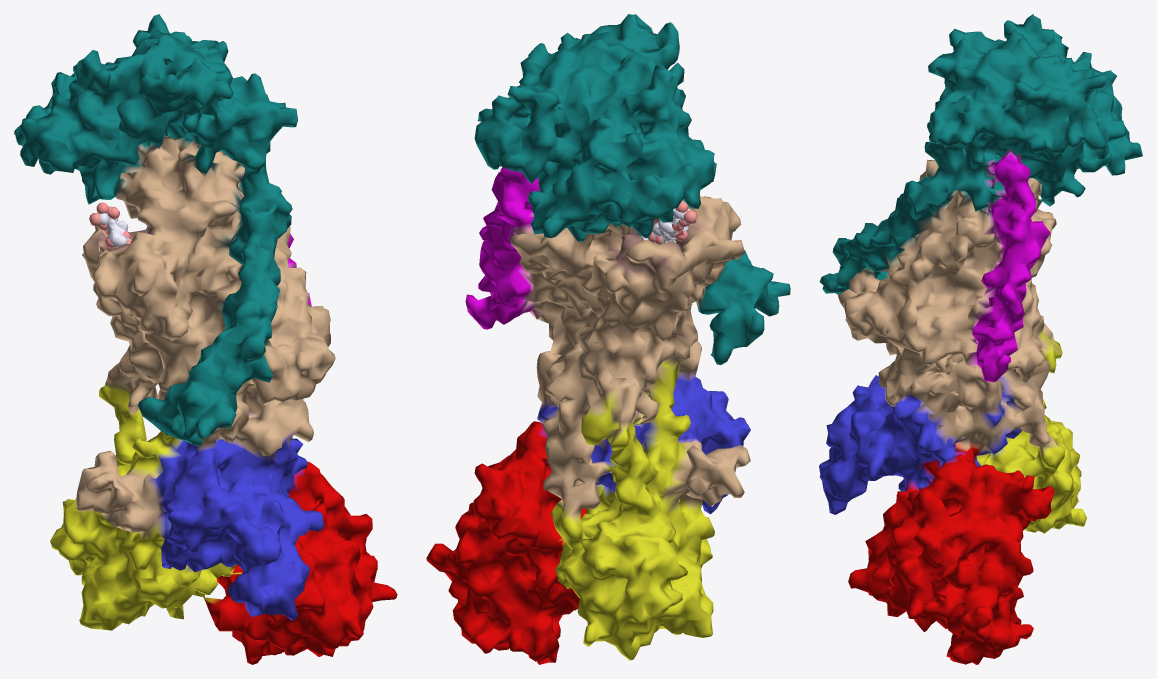
Rendered from na-k-atpase-lite.glb.
The picture shows the model from 3 angles, left to right: view 1: azimuth 30°, elevation 25°; view 2: azimuth 150°, elevation 25°; view 3: azimuth 270°, elevation 25°; orthographic projection. The views are drawn at different scales.
Parts seen in each view (by area): view 1: Object_4, Object_7; view 2: Object_4, Object_7; view 3: Object_4.
Boxes of the visible parts, x1=… form: Object_4: x1=14, y1=14, x2=397, y2=664; Object_7: x1=97, y1=206, x2=131, y2=247; Object_4: x1=426, y1=14, x2=790, y2=664; Object_7: x1=640, y1=208, x2=690, y2=243; Object_4: x1=819, y1=14, x2=1142, y2=664.
Size of the model in its own units: 81.22 by 162 by 83.51.
